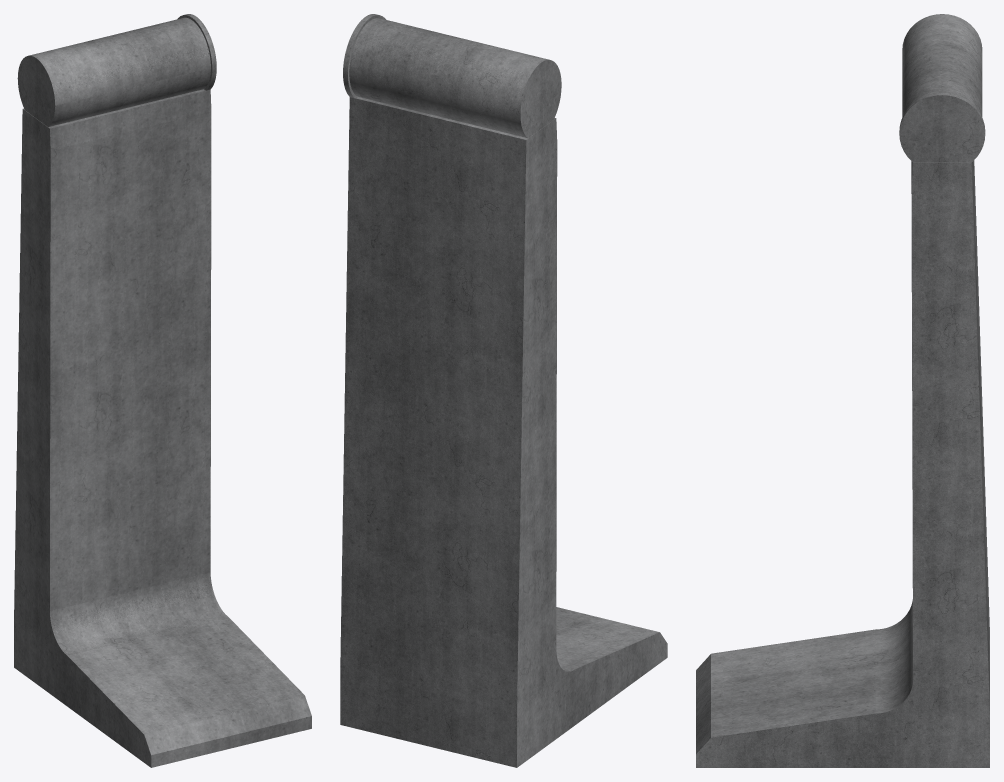
Rendered from Wall_Segment.glb.
The picture shows the model from 3 angles, left to right: view 1: azimuth 30°, elevation 25°; view 2: azimuth 150°, elevation 25°; view 3: azimuth 270°, elevation 25°; orthographic projection. The views are drawn at different scales.
Visible parts, largest first — view 1: Segment_01_Slab, Segment_01_Pipe; view 2: Segment_01_Slab, Segment_01_Pipe; view 3: Segment_01_Slab, Segment_01_Pipe.
Boxes of the visible parts, x1=… form: Segment_01_Slab: x1=14, y1=89, x2=311, y2=767; Segment_01_Pipe: x1=17, y1=14, x2=216, y2=126; Segment_01_Slab: x1=340, y1=96, x2=667, y2=767; Segment_01_Pipe: x1=343, y1=14, x2=561, y2=138; Segment_01_Slab: x1=696, y1=160, x2=989, y2=767; Segment_01_Pipe: x1=899, y1=14, x2=985, y2=162.
Size of the model in its own units: 2.38 by 8.89 by 3.52.
1 material, 1 textured.
